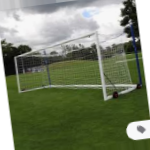goals: (12, 29, 138, 103)
